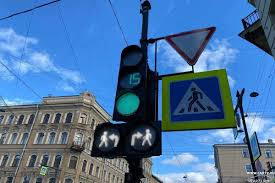tl: (109, 45, 161, 121)
